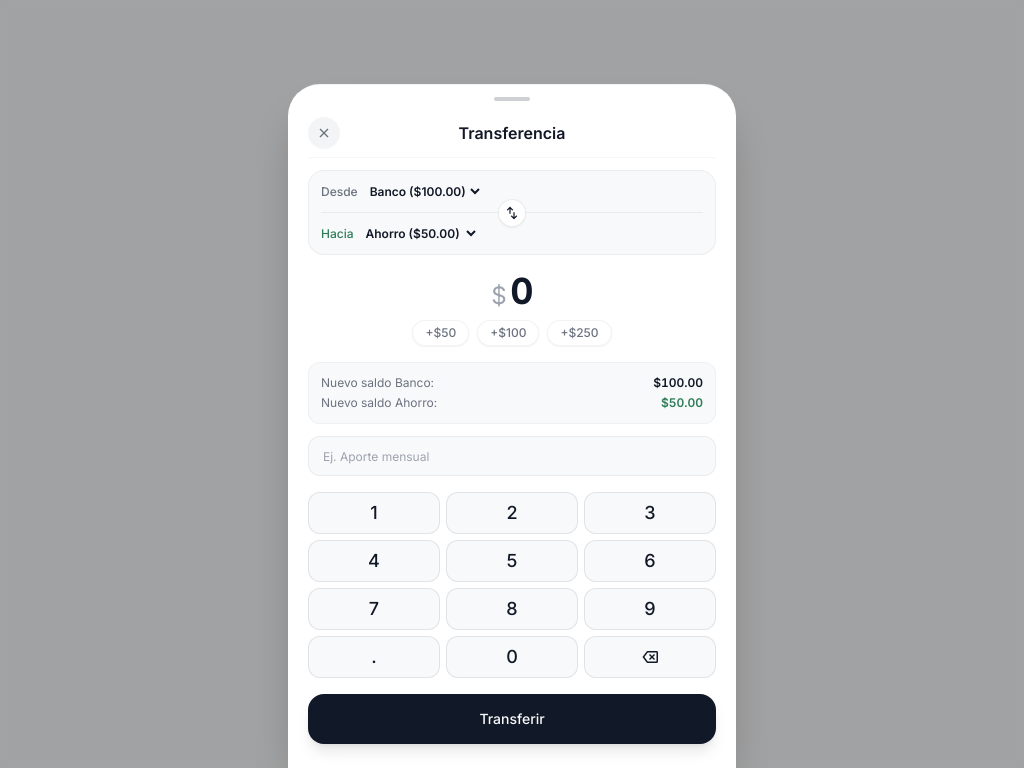
Scenario: TransferModal › aplica los montos rápidos
Click the button "+$100": x=508, y=333 [477,320,540,346]
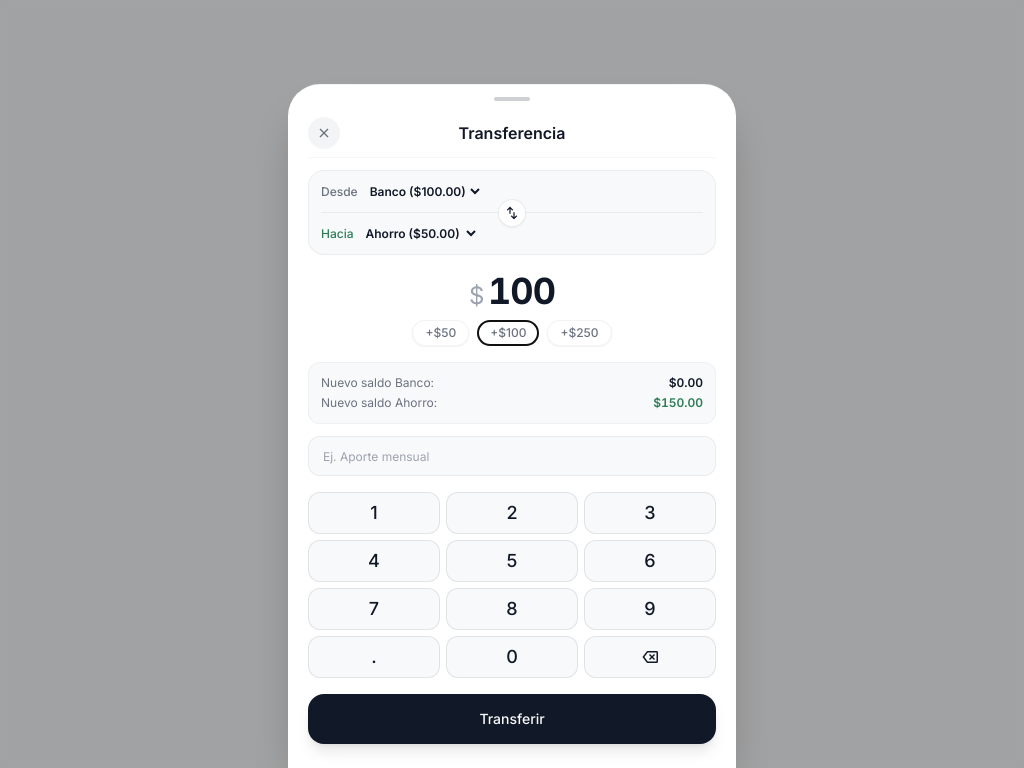
Expected: the text "100" is shown, [488,271,555,311]
